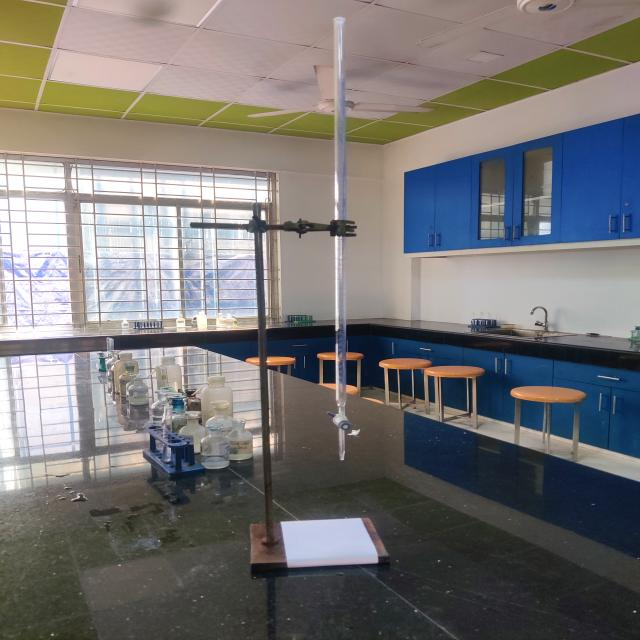Burette_Stands: (177, 188, 406, 582)
